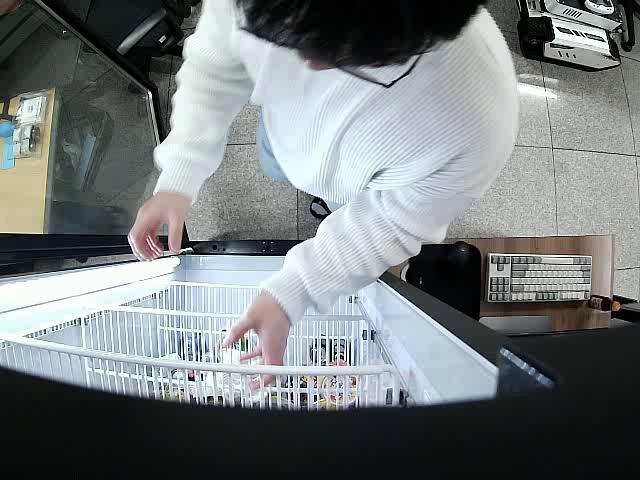00_hand: (219, 293, 288, 393), (127, 193, 187, 263)
